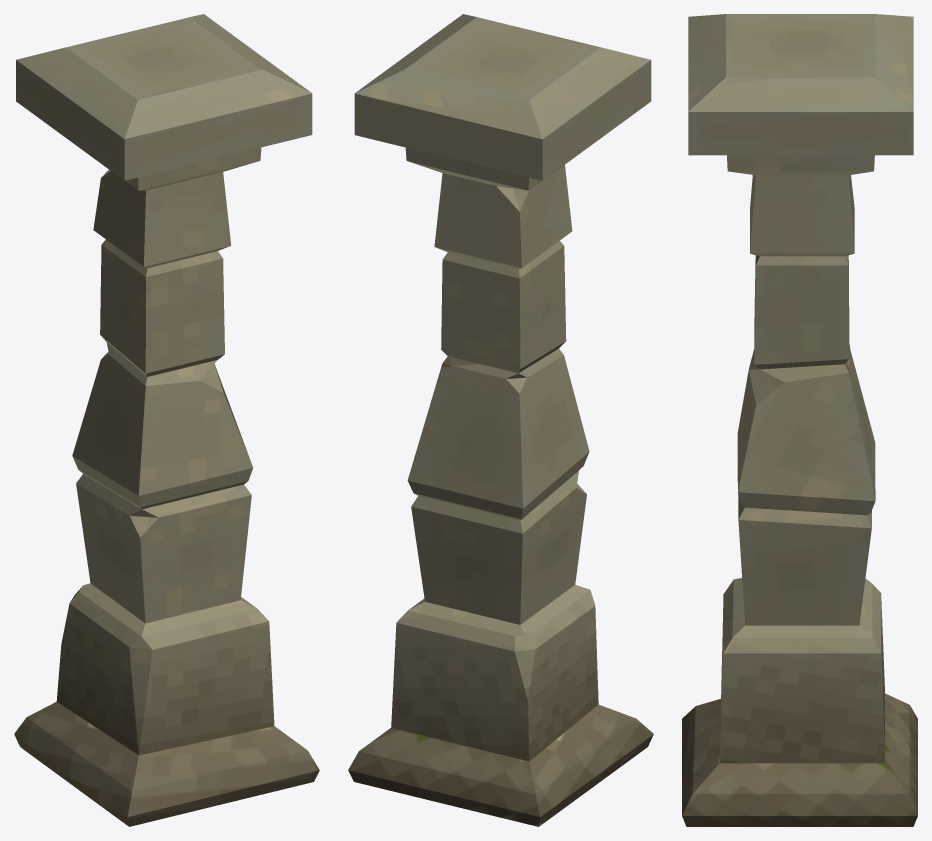
The model's file is Column_1.fbx.
The picture shows the model from 3 angles, left to right: view 1: azimuth 30°, elevation 25°; view 2: azimuth 150°, elevation 25°; view 3: azimuth 270°, elevation 25°; orthographic projection. The views are drawn at different scales.
Visible parts, largest first — view 1: Column_1; view 2: Column_1; view 3: Column_1.
Boxes of the visible parts, <box> form: Column_1: <box>14,14,319,826</box>; Column_1: <box>348,14,653,826</box>; Column_1: <box>682,14,917,826</box>.
Bounding box in the file's own units: 235 × 825 × 241.
